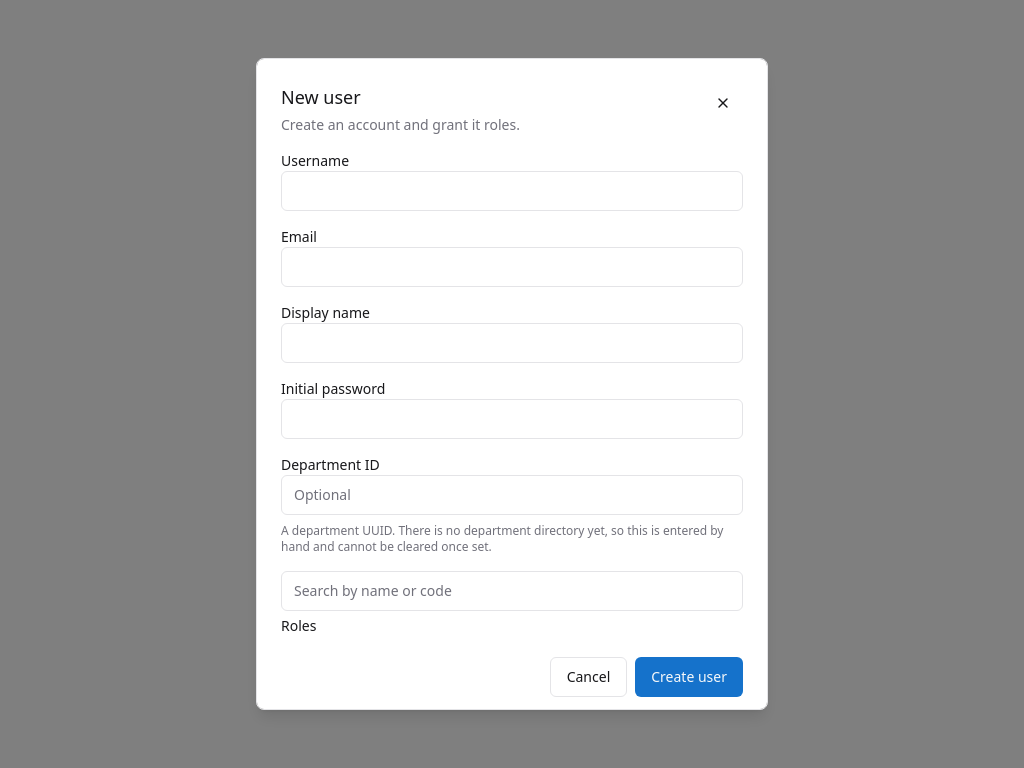
Test: UserFormDialog › a 422 detail no input reads (#576) › does not list a detail an input shows
In the field with id "user-username": [512, 191] box [281, 171, 743, 211], type "bima"
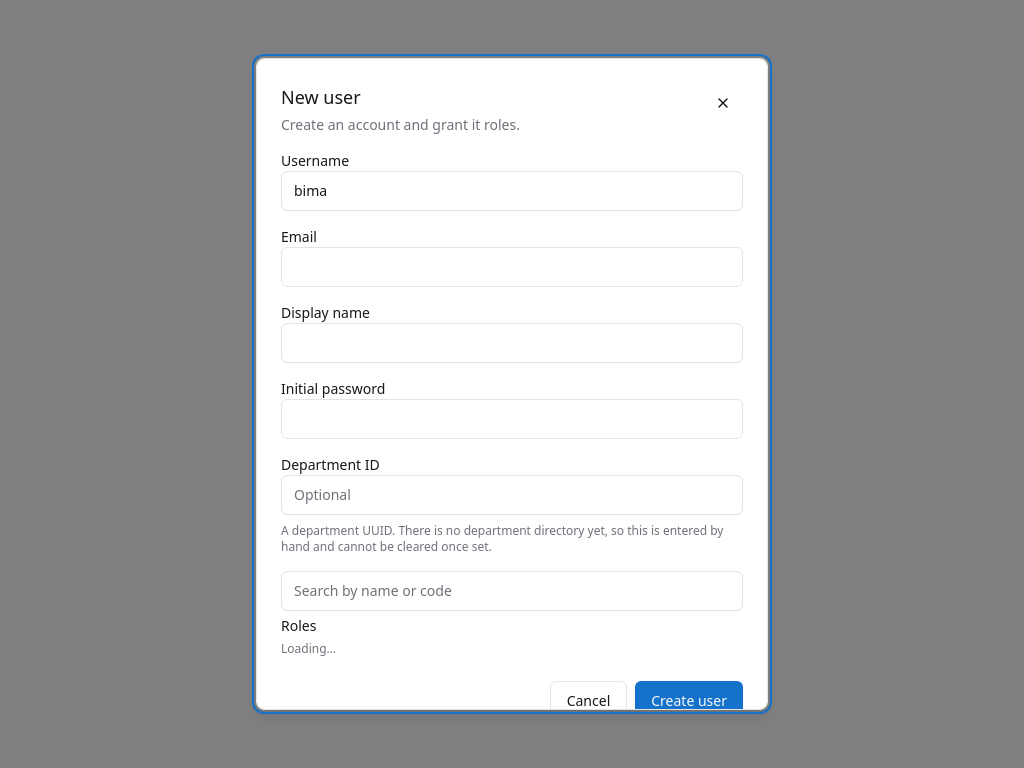
In the field with id "user-email": [512, 267] box [281, 247, 743, 287], type "bima@example.com"
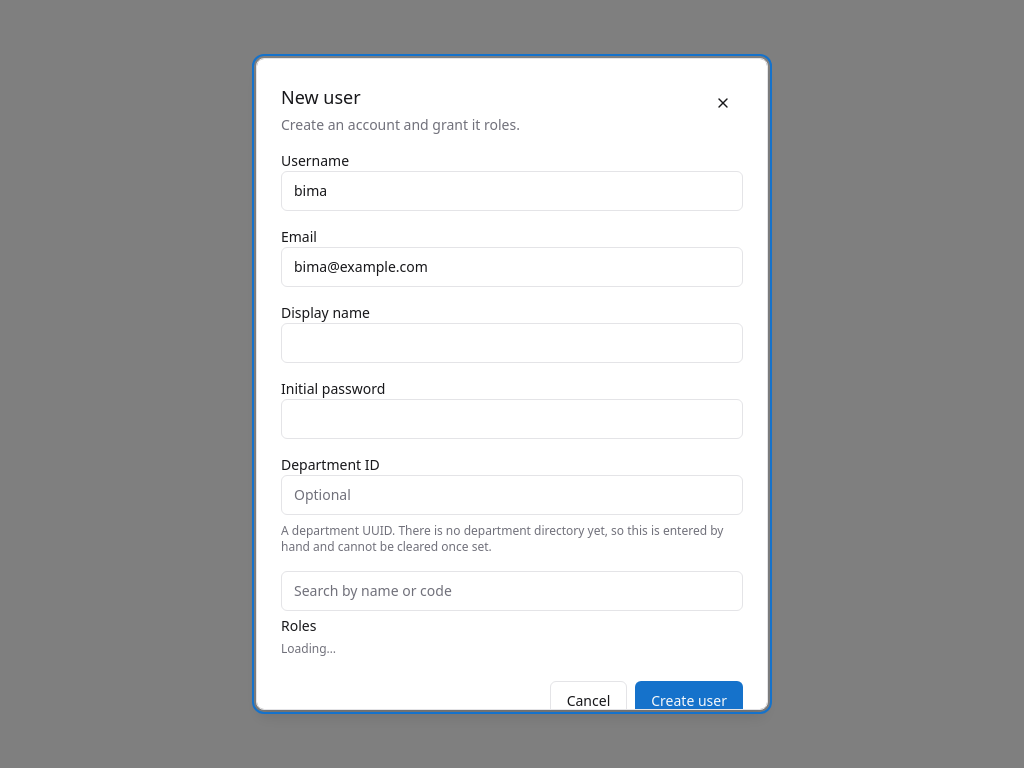
In the field with id "user-display-name": [512, 343] box [281, 323, 743, 363], type "Bima Santoso"
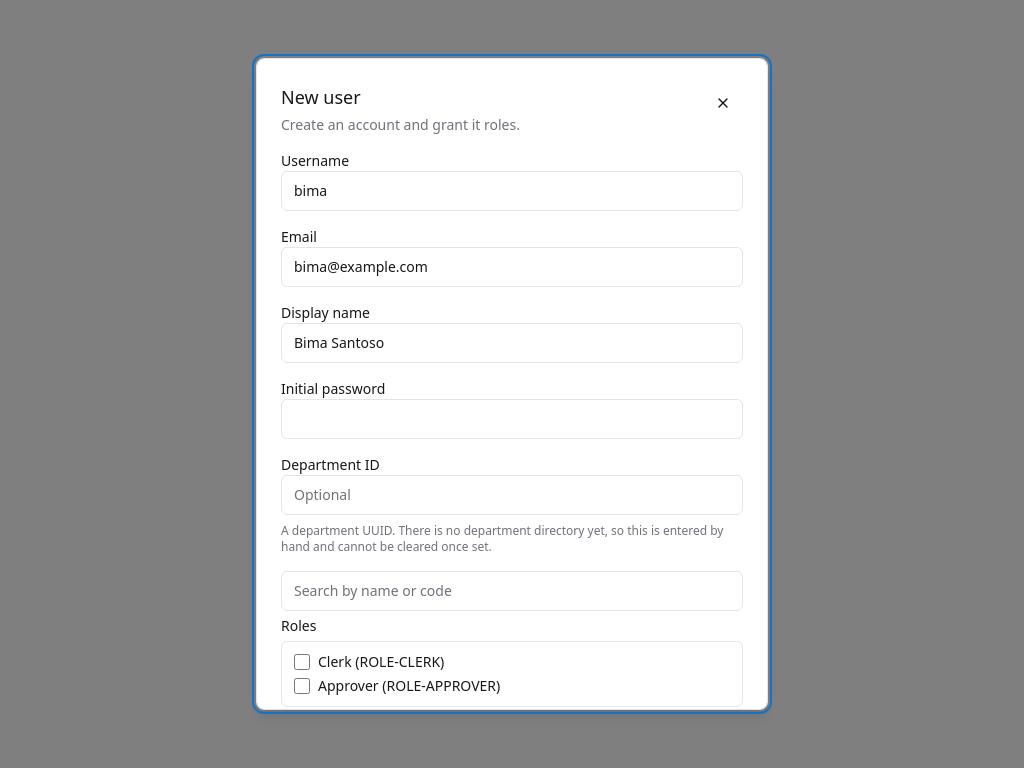
In the password field with id "user-password": [512, 419] box [281, 399, 743, 439], type "a-long-enough-password"
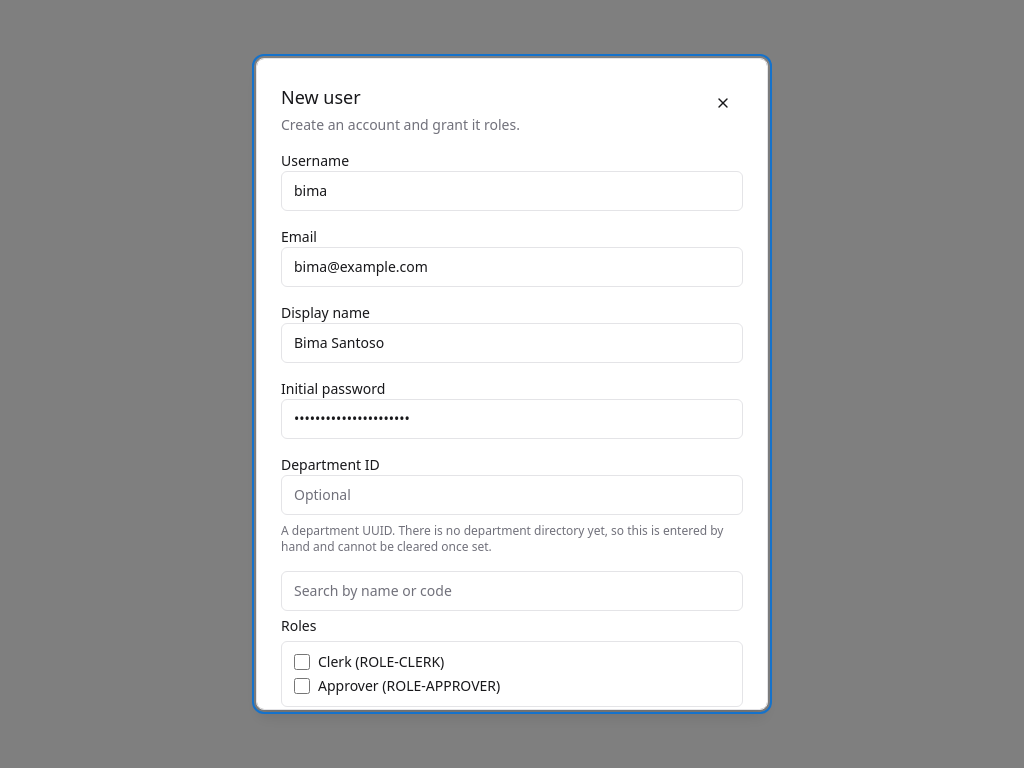
Submit the form, box [281, 151, 743, 707]
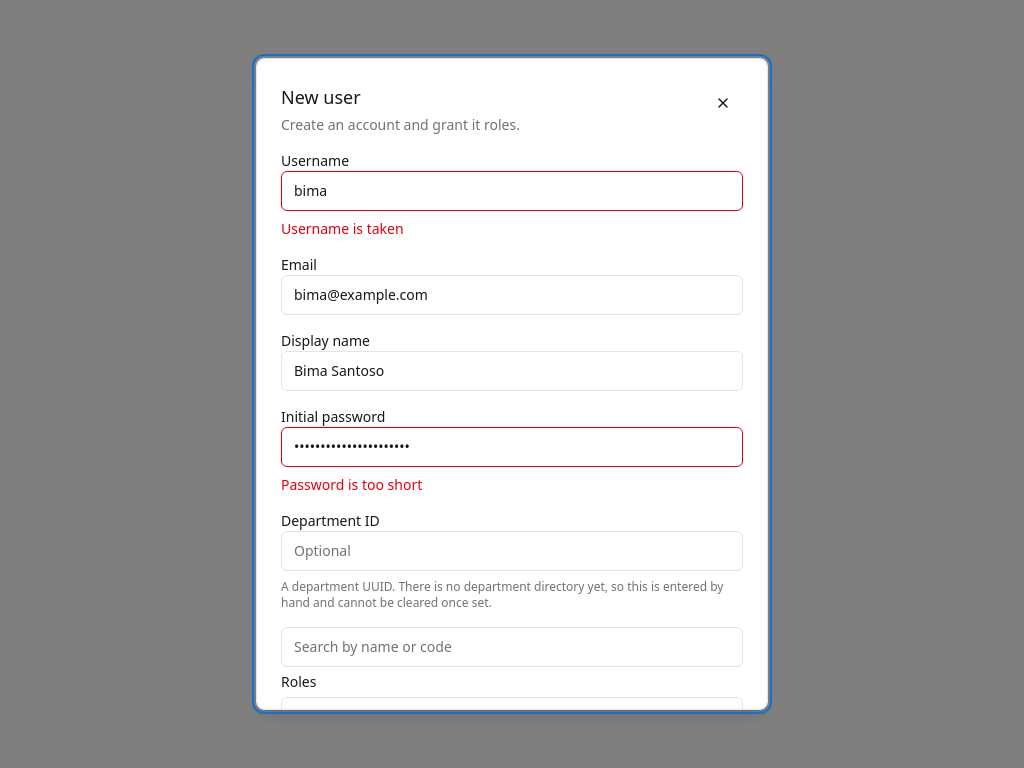
Now the text with id "user-username-error" reads "Username is taken", box [281, 219, 404, 238]
Now the text with id "user-password-error" reads "Password is too short", box [281, 475, 422, 494]
